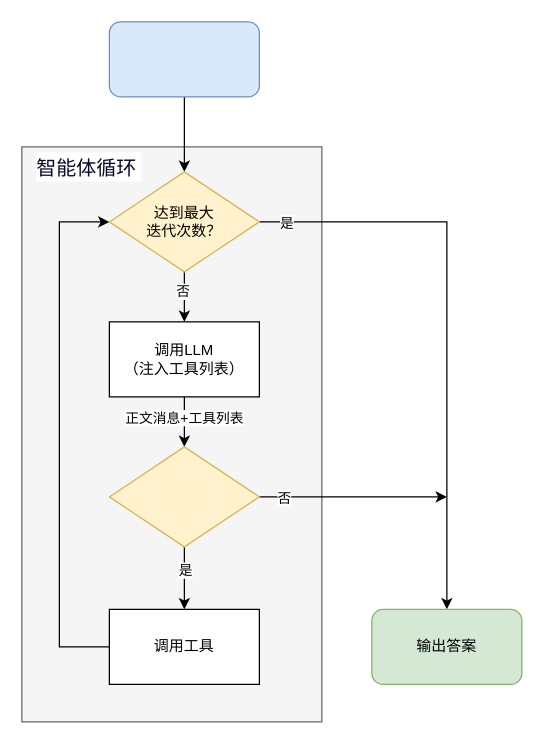
This 544x744 diagram has some shape labels left out. The shapes that lost their labels are listed below. From the top down, each one's box as (x1, y1, x2, y2) in pixels, then its label:
(108, 21, 259, 97): 用户提示词
(108, 446, 259, 547): 包含 工具调用列表？
